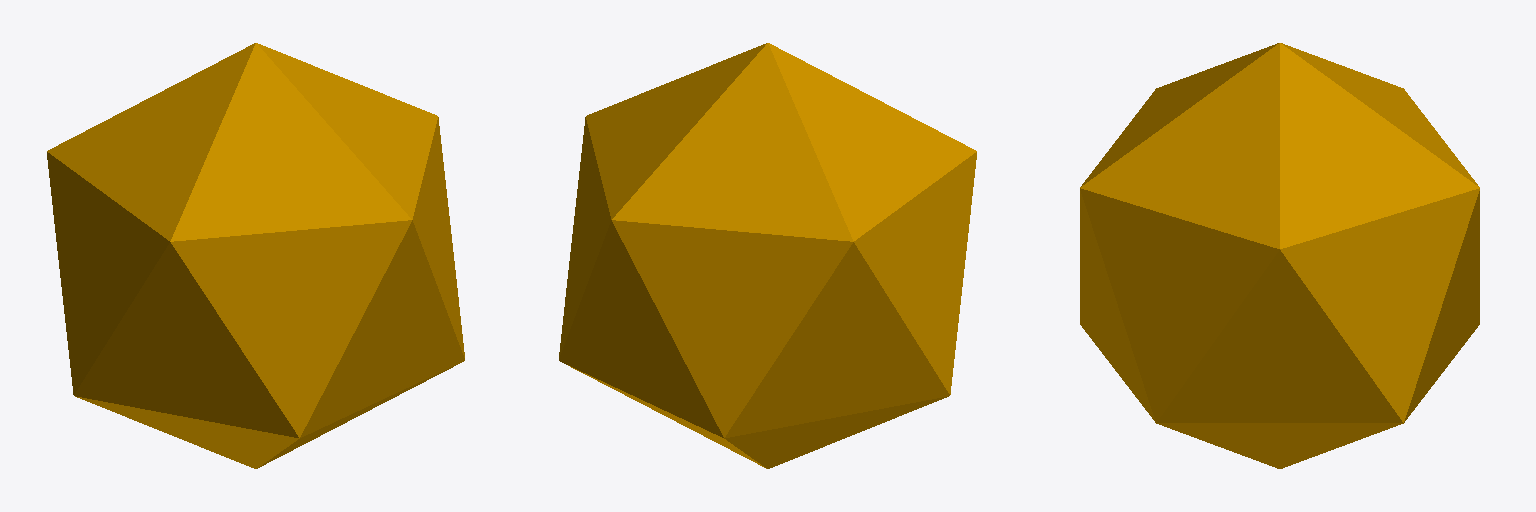
Rendered from energy_remain.obj.
3 renders of one model, left to right at view 1: azimuth 30°, elevation 25°; view 2: azimuth 150°, elevation 25°; view 3: azimuth 270°, elevation 25°, orthographic.
Visible parts, largest first — view 1: energy_remain_Icosphere; view 2: energy_remain_Icosphere; view 3: energy_remain_Icosphere.
Boxes of the visible parts, <box> form: energy_remain_Icosphere: <box>47,43,464,468</box>; energy_remain_Icosphere: <box>559,43,976,468</box>; energy_remain_Icosphere: <box>1080,43,1479,468</box>.
Size of the model in its own units: 0.079 by 0.0883 by 0.0751.